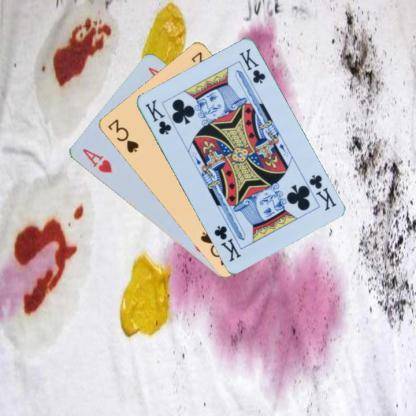3s: (104, 116, 140, 154)
Ah: (80, 146, 113, 174)
Kc: (306, 172, 338, 212), (142, 96, 173, 136)
